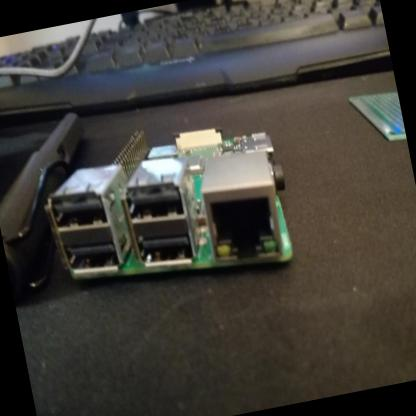Raspberry_Pi_3: (37, 103, 307, 309)
